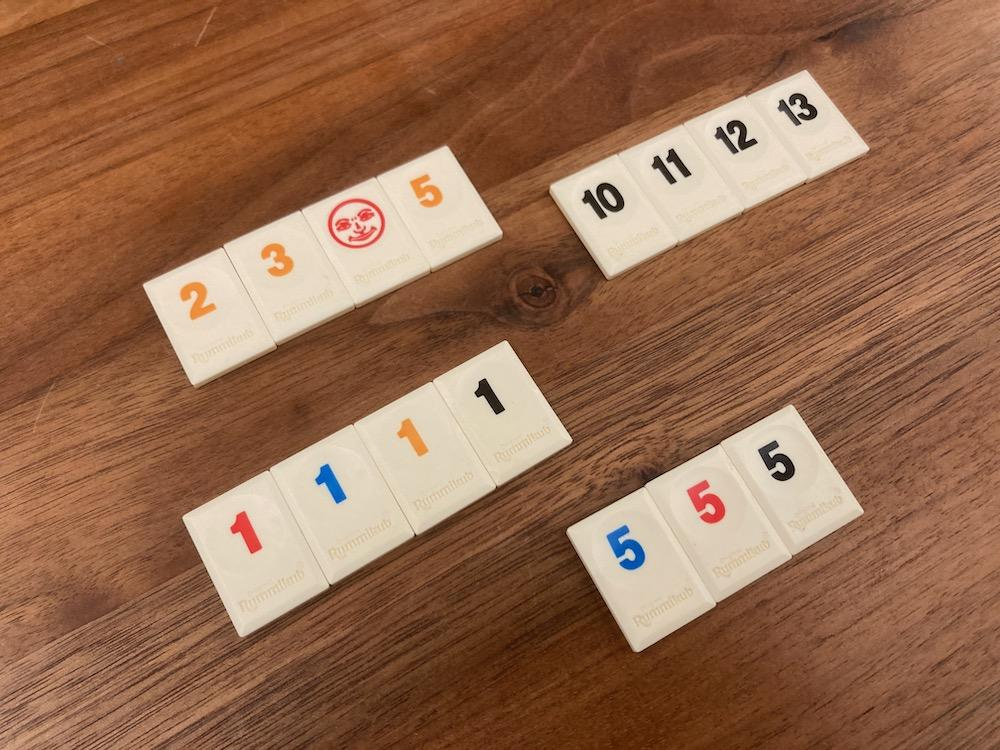black_1: (434, 342, 572, 486)
black_10: (551, 154, 678, 278)
black_11: (619, 125, 742, 242)
black_12: (686, 98, 807, 208)
black_13: (748, 70, 869, 179)
black_5: (721, 406, 863, 554)
blue_1: (271, 426, 414, 584)
blue_5: (568, 488, 715, 651)
joker: (303, 178, 430, 307)
orange_1: (355, 383, 494, 532)
orange_2: (145, 248, 275, 386)
orange_3: (225, 211, 354, 344)
orange_5: (379, 146, 502, 269)
red_1: (184, 471, 328, 637)
red_5: (646, 445, 791, 602)
